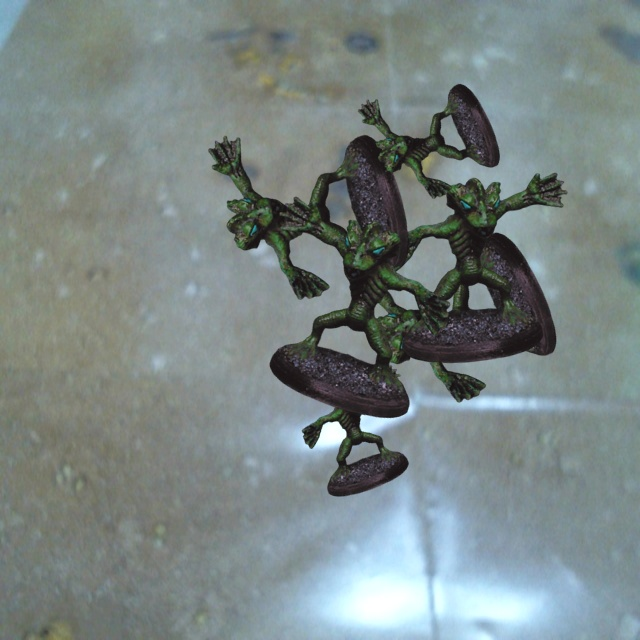pieza_juego: (269, 197, 449, 417), (346, 233, 555, 402), (385, 173, 567, 362), (208, 135, 408, 299), (358, 84, 499, 198), (302, 365, 408, 496)
